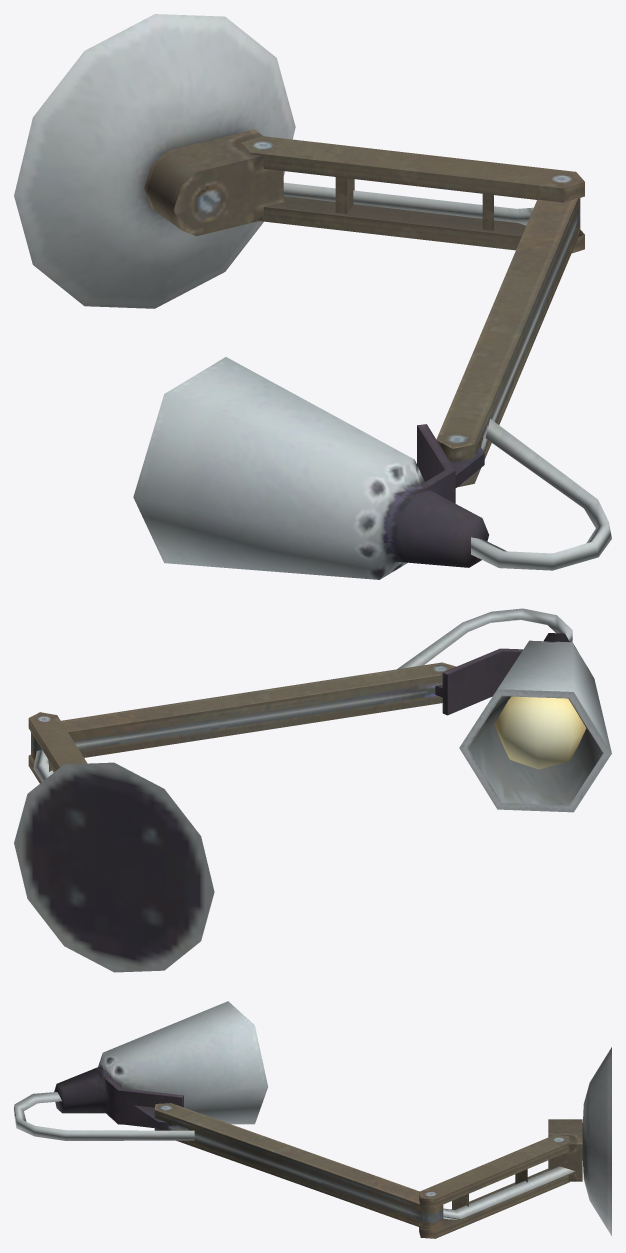
The model's file is p_pent_lamp_desk_on_LOD1.obj.
3 renders of one model, top to bottom at view 1: azimuth 30°, elevation 25°; view 2: azimuth 150°, elevation 25°; view 3: azimuth 270°, elevation 25°, orthographic. The views are drawn at different scales.
Visible parts, largest first — view 1: mtl_p_pent_lamp_desk; view 2: mtl_p_pent_lamp_desk, mtl_p_pent_lamp_bulb_on; view 3: mtl_p_pent_lamp_desk.
Part boxes in pixels (x1,y1,x2,y2): mtl_p_pent_lamp_desk: [14, 14, 611, 579]; mtl_p_pent_lamp_desk: [14, 608, 611, 972]; mtl_p_pent_lamp_bulb_on: [494, 696, 586, 769]; mtl_p_pent_lamp_desk: [14, 1001, 611, 1238].
Size of the model in its own units: 43.35 by 19.35 by 60.69.
